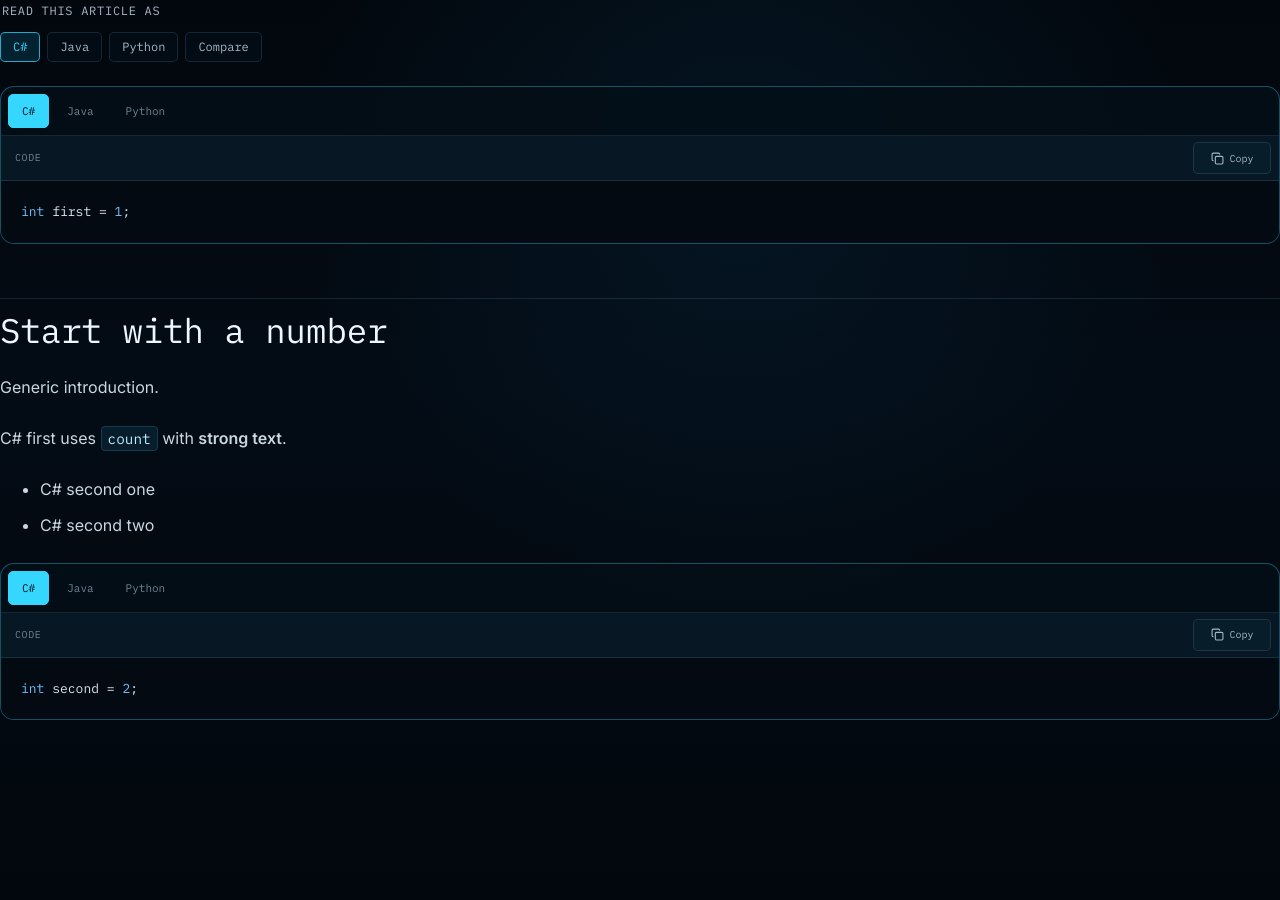
Test case: Markdown writing rendering › renders every language-aware code sample in Compare without tab semantics
Click the radio button labelled "Compare": coordinates (224, 47) [185, 32, 262, 62]
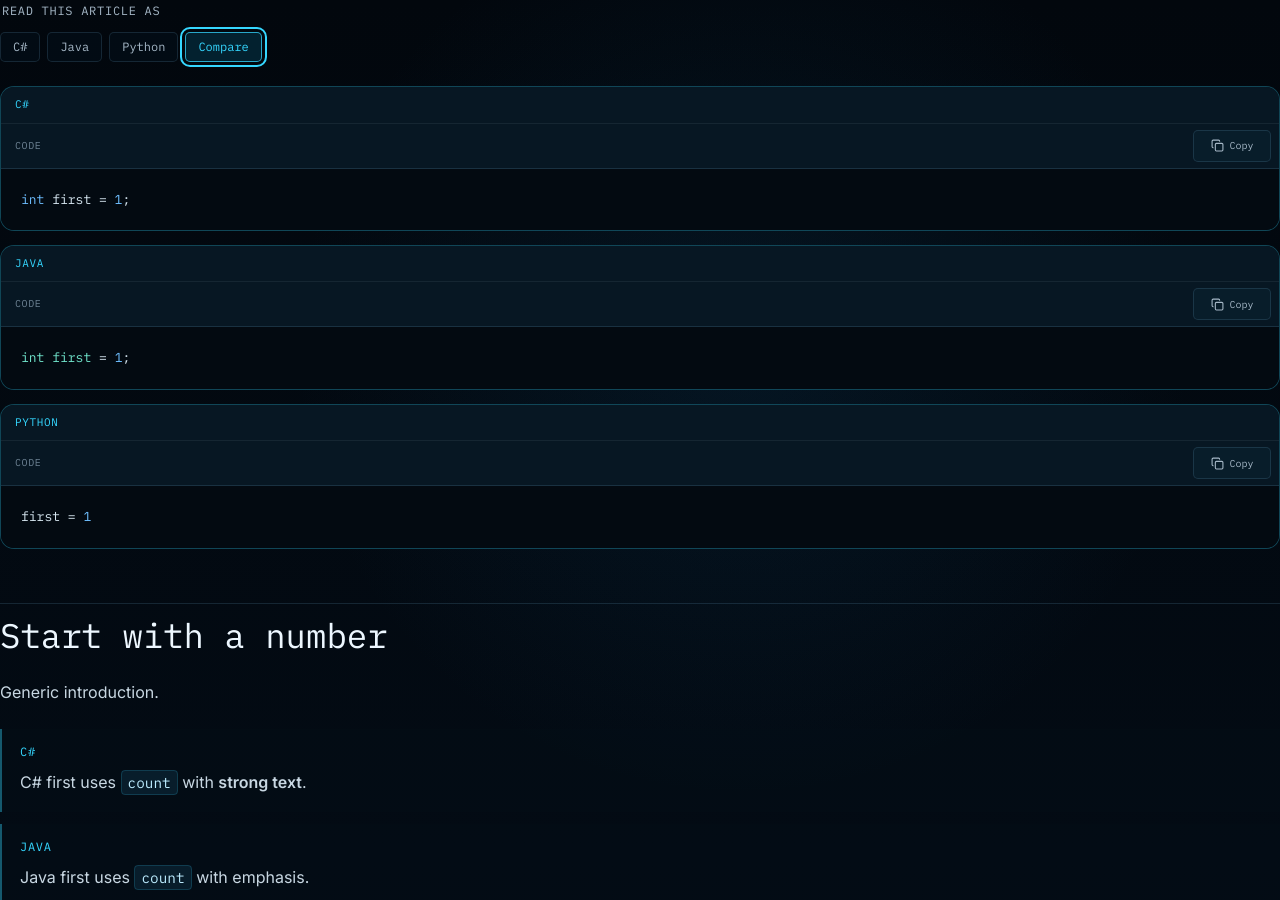
expect the tab is gone: met
expect the number of elements named "Equivalent code comparison" is 2: met
expect the element named "Python code" reads "first = 1": met, box [21, 508, 91, 525]
